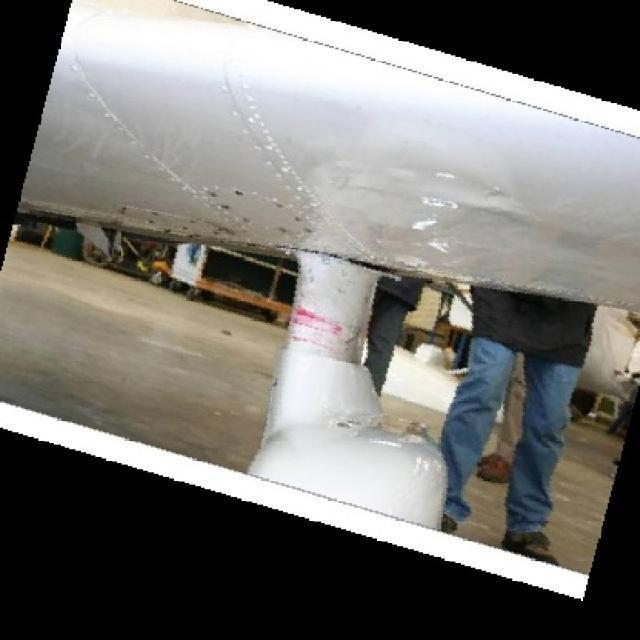dent: (410, 185, 465, 213)
